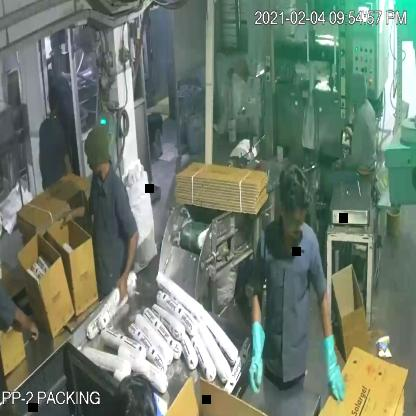glove: (318, 328, 351, 404), (249, 313, 274, 406)
no_glove: (108, 216, 146, 307), (47, 184, 100, 236), (8, 294, 47, 362)
